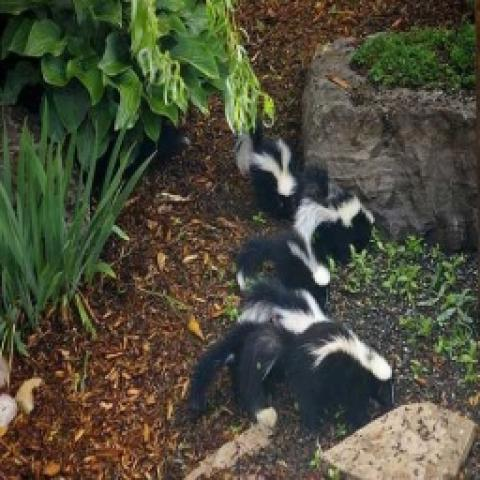small_animal: (282, 313, 397, 431), (227, 226, 334, 302), (237, 112, 305, 228), (286, 190, 378, 266)
